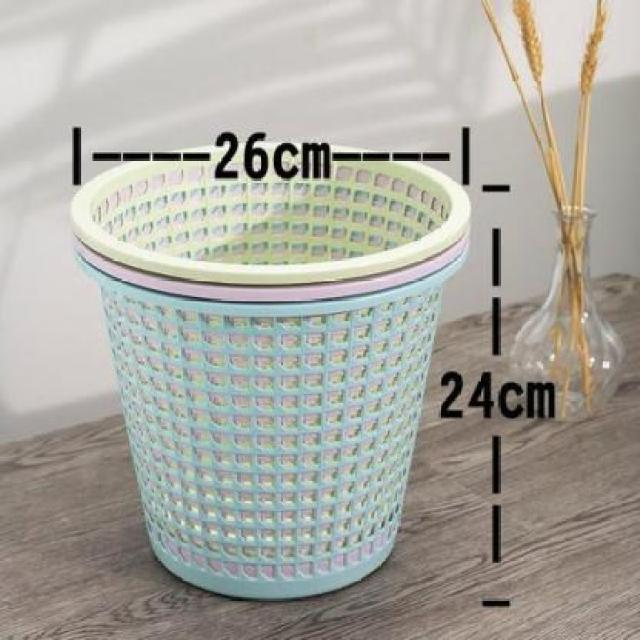dustbin: (66, 136, 477, 606)
